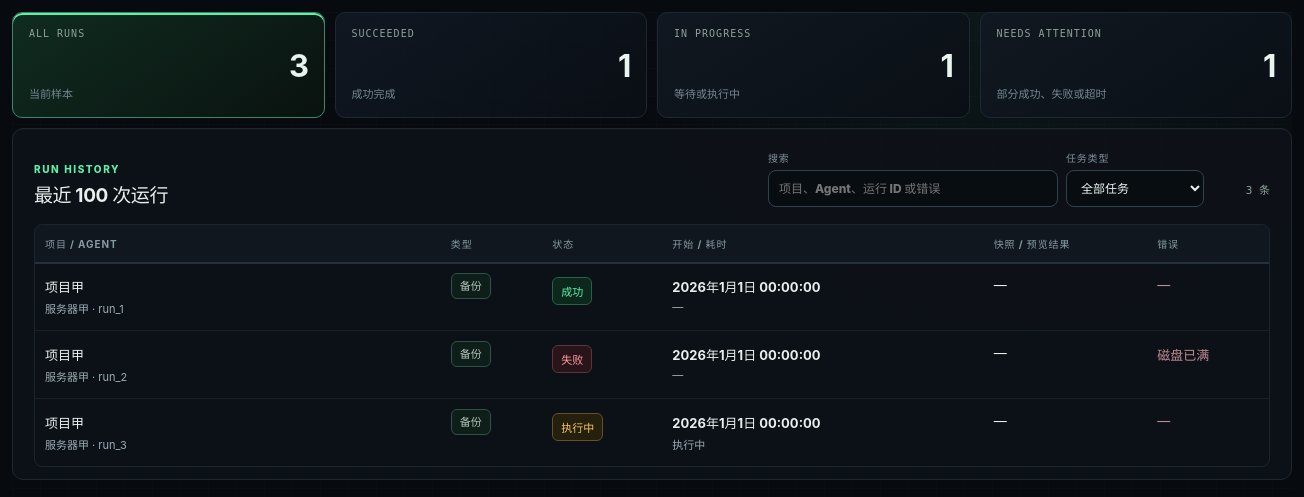
Test case: RunsView › renders runs and reacts to the status filter
Click the button "SUCCEEDED 1 成功完成": (383, 34) [334,12,647,118]
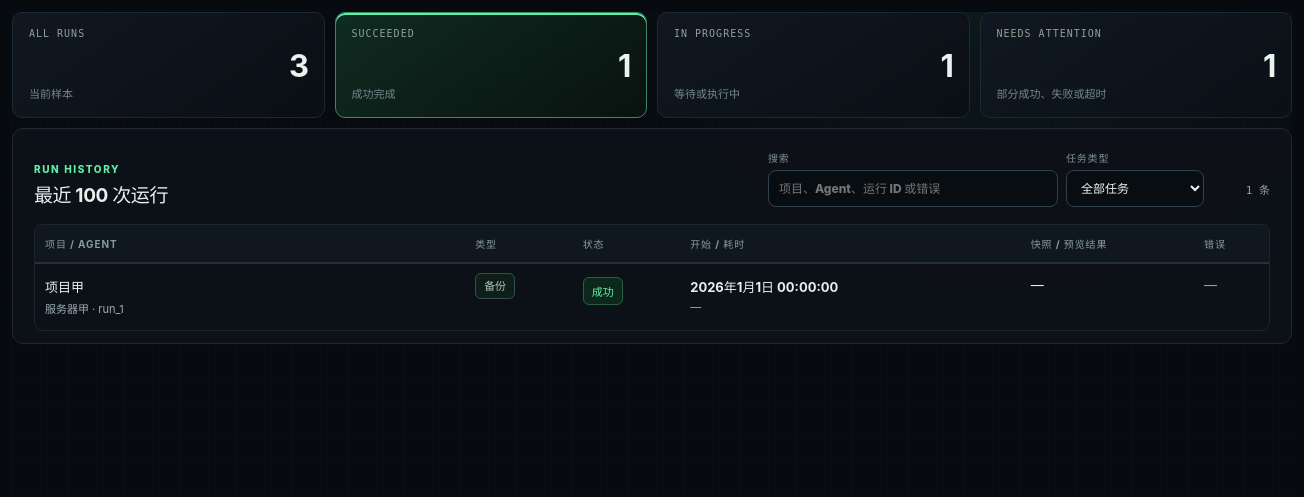
Now the text "1 条" is shown, box [1246,184,1270,197]
Now the text "磁盘已满" is gone
